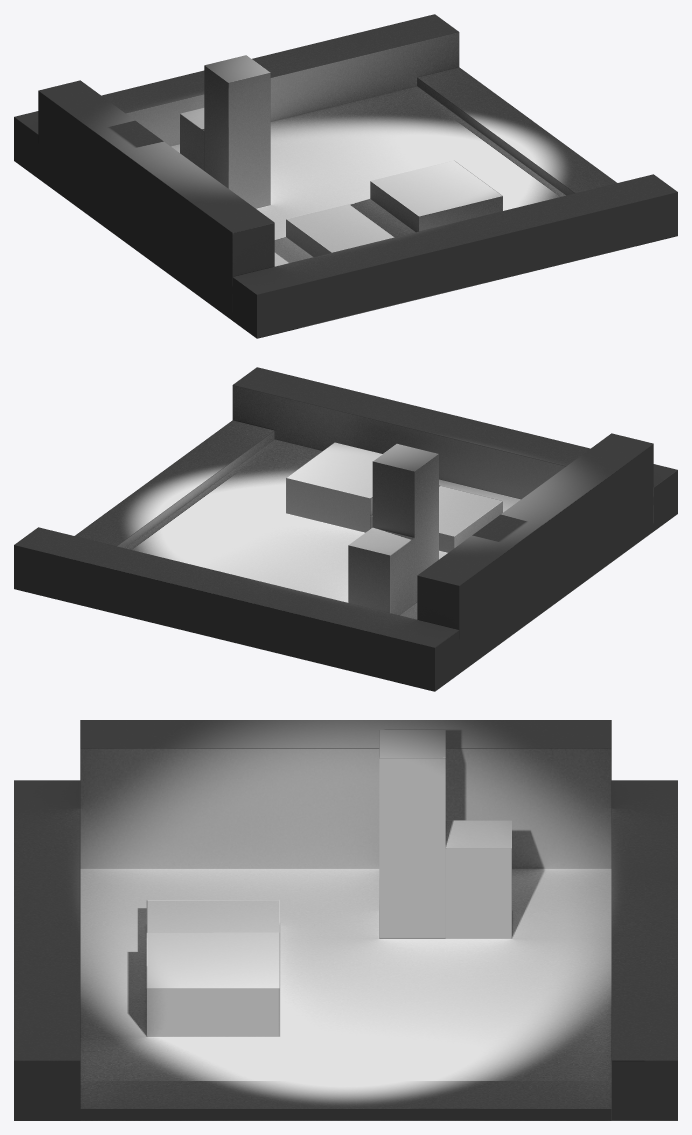
Rendered from simple10x10_simple_j_focus_2k.fbx.
3 views of the same model, one above another, from view 1: azimuth 30°, elevation 25°; view 2: azimuth 150°, elevation 25°; view 3: azimuth 270°, elevation 25° (orthographic). The views are drawn at different scales.
Visible parts, largest first — view 1: simple_world1; view 2: simple_world1; view 3: simple_world1.
Boxes of the visible parts, <box> form: simple_world1: <box>14,14,677,338</box>; simple_world1: <box>14,367,677,691</box>; simple_world1: <box>14,720,677,1120</box>.
Size of the model in its own units: 1000 by 300 by 1000.
1 material, 1 textured.
